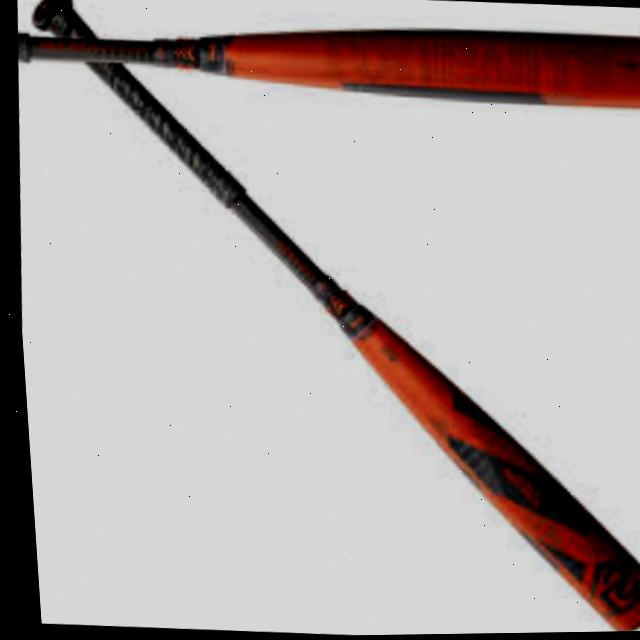baseball bat: (34, 0, 640, 633), (16, 32, 640, 108)
